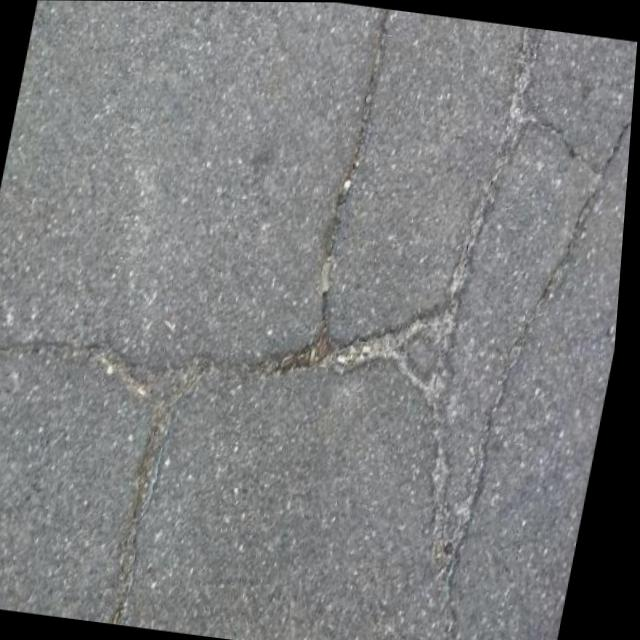Crack: (348, 17, 639, 640), (0, 268, 408, 430), (300, 6, 399, 374), (109, 336, 214, 629)
